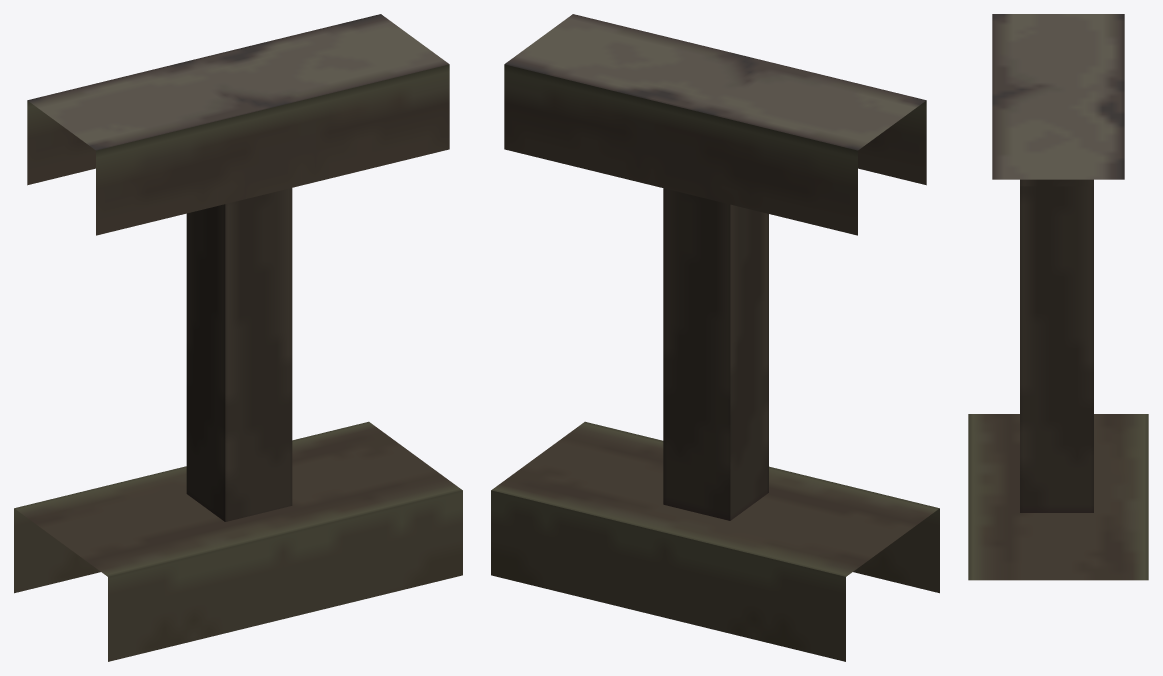
The model's file is RailingShortModel.fbx.
3 views of the same model, side by side, from view 1: azimuth 30°, elevation 25°; view 2: azimuth 150°, elevation 25°; view 3: azimuth 270°, elevation 25° (orthographic). The views are drawn at different scales.
Parts seen in each view (by area): view 1: RailingShortModel; view 2: RailingShortModel; view 3: RailingShortModel.
Boxes of the visible parts, x1=… form: RailingShortModel: x1=14, y1=14, x2=462, y2=661; RailingShortModel: x1=491, y1=14, x2=939, y2=661; RailingShortModel: x1=968, y1=14, x2=1148, y2=580.
Bounding box in the file's own units: 109 × 148 × 50.
1 material, 1 textured.
